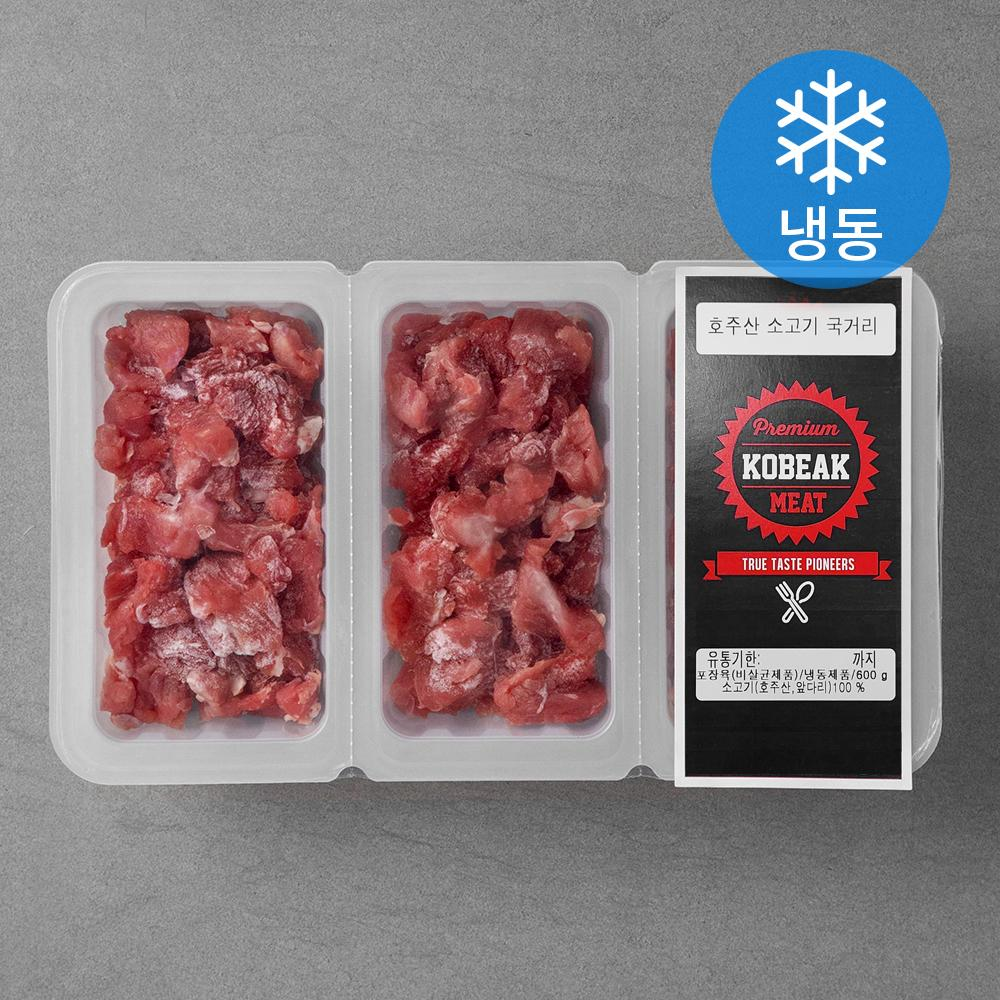beef: (148, 469, 508, 1000), (598, 486, 939, 1000)
